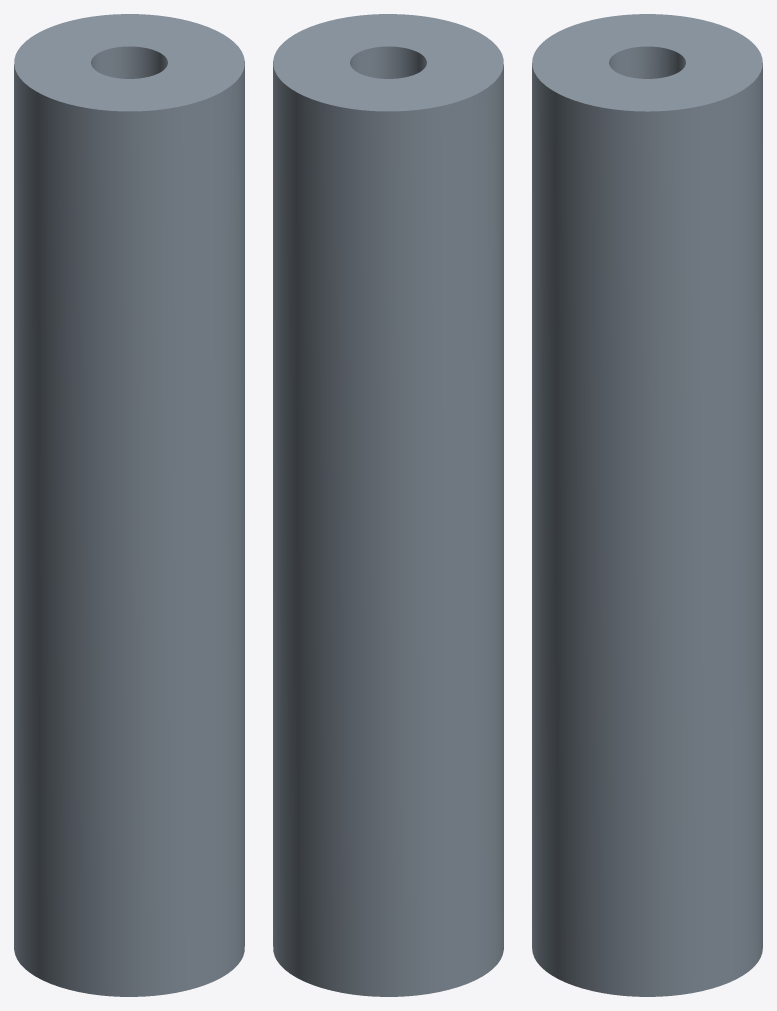
File: metal_021.obj
3 renders of one model, left to right at view 1: azimuth 30°, elevation 25°; view 2: azimuth 150°, elevation 25°; view 3: azimuth 270°, elevation 25°, orthographic.
Bounding box in the file's own units: 0.006 × 0.0254 × 0.006.
